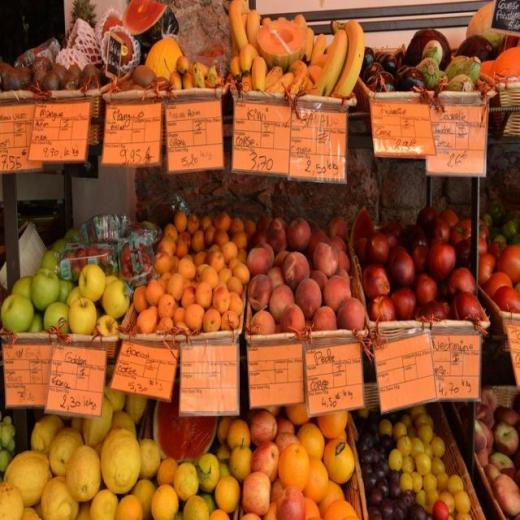Grape: (276, 439, 320, 499)
